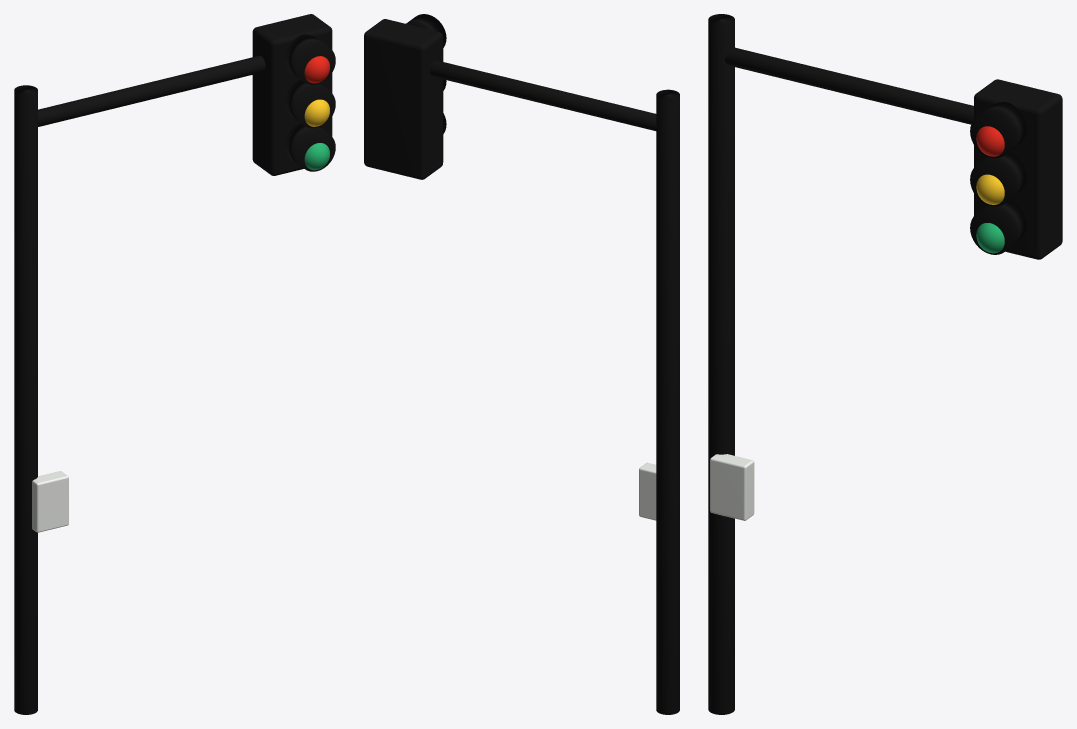
File: traffic_signal_photoreal_proxy.fbx
The picture shows the model from 3 angles, left to right: view 1: azimuth 30°, elevation 25°; view 2: azimuth 150°, elevation 25°; view 3: azimuth 330°, elevation 25°; orthographic projection. The views are drawn at different scales.
Parts seen in each view (by area): view 1: signal_pole, signal_head_housing, signal_mast, ped_button_box, signal_red_visor, signal_amber_visor, signal_green_visor, signal_red_lens, signal_amber_lens, signal_green_lens; view 2: signal_pole, signal_head_housing, signal_mast, ped_button_box; view 3: signal_pole, signal_head_housing, signal_mast, ped_button_box, signal_red_visor, signal_amber_visor, signal_green_visor, signal_red_lens, signal_amber_lens, signal_green_lens.
Part boxes in pixels (<box>): signal_pole: <box>14,85,37,714</box>; signal_head_housing: <box>252,14,332,175</box>; signal_mast: <box>37,55,265,126</box>; ped_button_box: <box>32,471,68,532</box>; signal_red_visor: <box>284,34,335,84</box>; signal_amber_visor: <box>284,79,335,128</box>; signal_green_visor: <box>284,123,335,171</box>; signal_red_lens: <box>304,56,329,83</box>; signal_amber_lens: <box>304,99,329,126</box>; signal_green_lens: <box>304,143,329,170</box>; signal_pole: <box>656,89,679,714</box>; signal_head_housing: <box>364,19,443,179</box>; signal_mast: <box>430,60,671,130</box>; ped_button_box: <box>639,462,656,520</box>; signal_pole: <box>708,14,734,714</box>; signal_head_housing: <box>974,79,1062,259</box>; signal_mast: <box>725,47,973,124</box>; ped_button_box: <box>710,454,754,520</box>; signal_red_visor: <box>970,102,1026,158</box>; signal_amber_visor: <box>970,152,1026,206</box>; signal_green_visor: <box>970,201,1026,254</box>; signal_red_lens: <box>976,126,1004,156</box>; signal_amber_lens: <box>976,174,1004,204</box>; signal_green_lens: <box>976,223,1004,253</box>.
Size of the model in its own units: 208 by 400 by 47.
